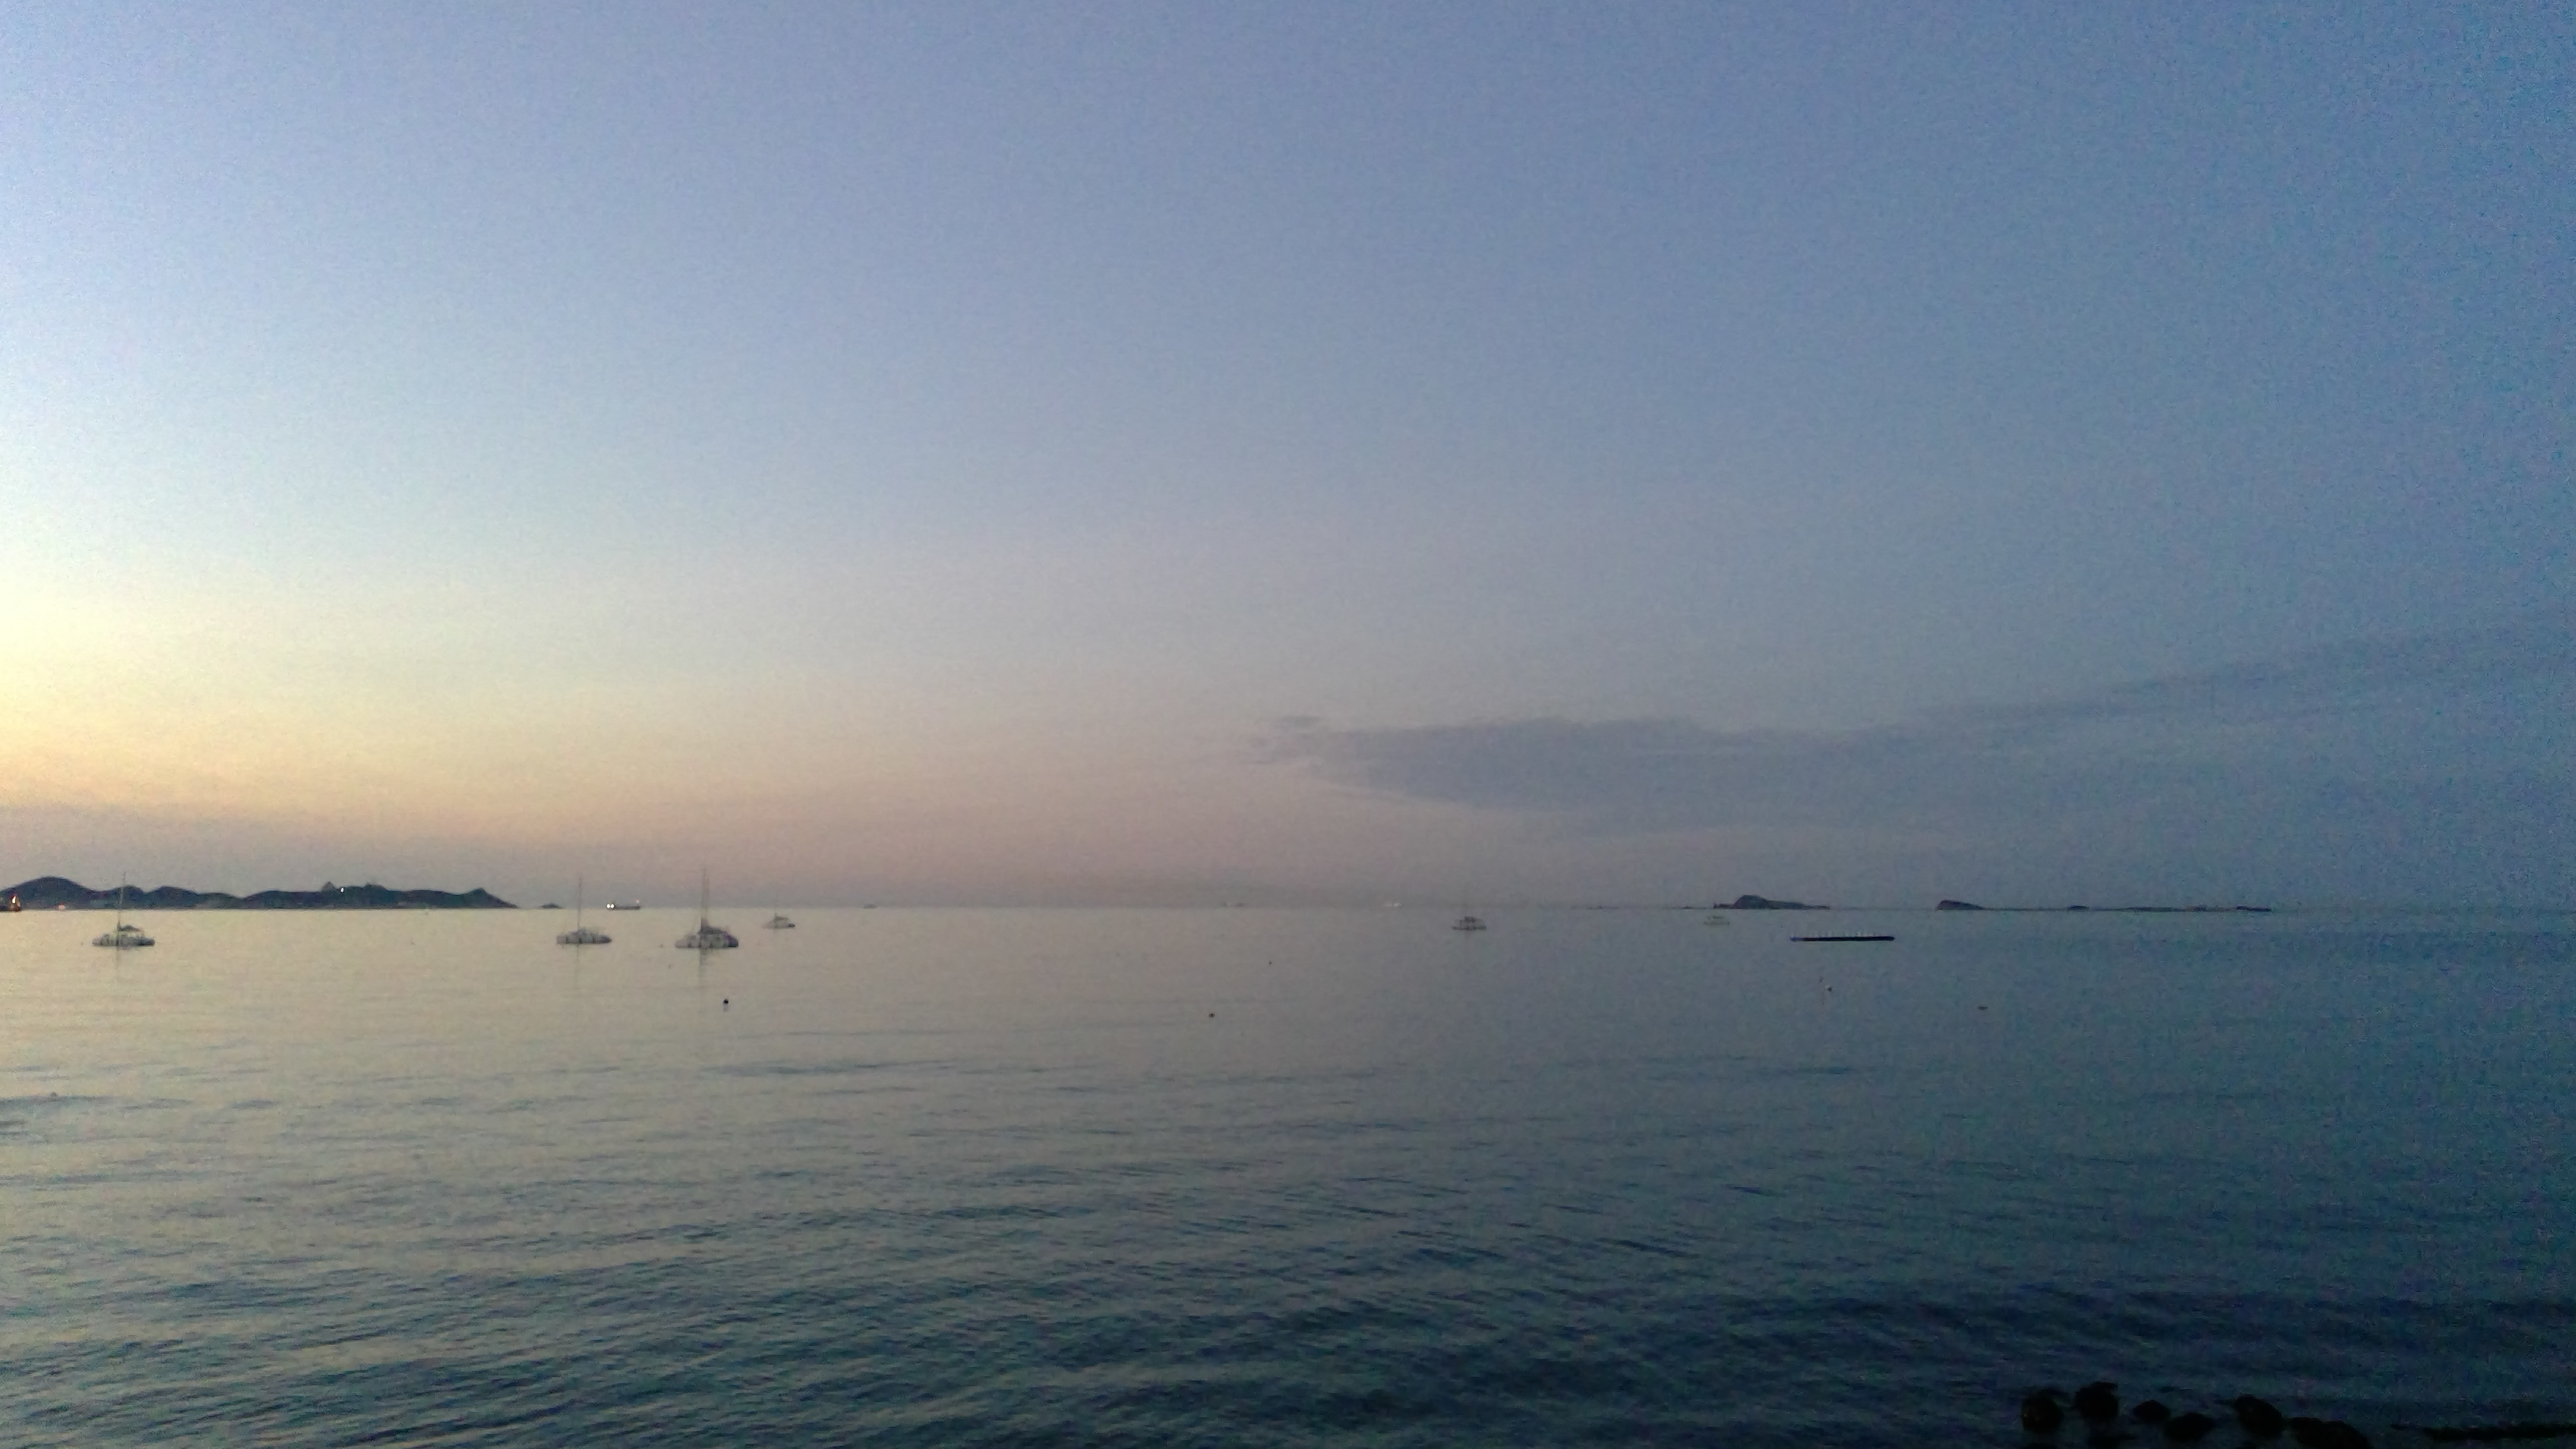boat: (665, 847, 745, 966), (88, 870, 156, 966), (550, 863, 616, 957)
